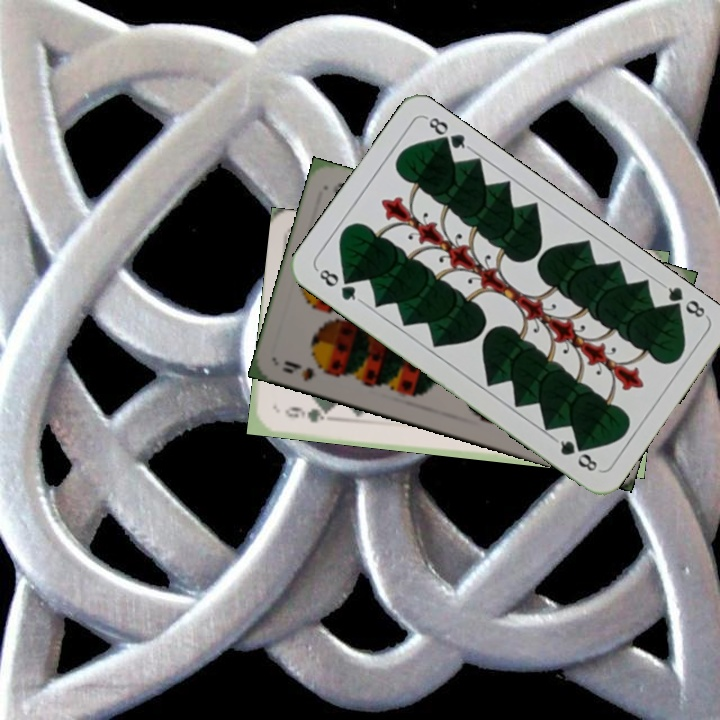G8: (658, 280, 710, 321), (313, 264, 364, 305)
G9: (281, 403, 333, 425)
S9: (278, 356, 336, 384)
